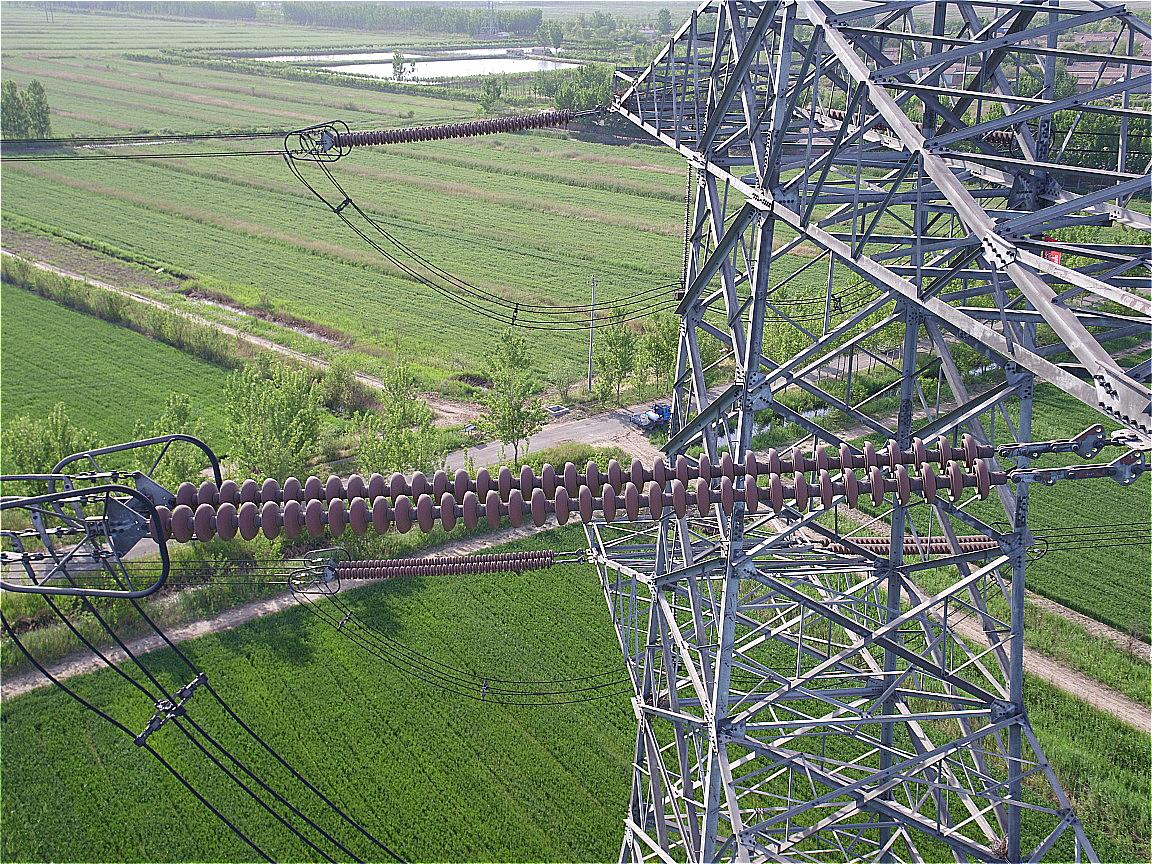insultor1: (151, 432, 988, 542)
insultor2: (334, 107, 573, 148), (335, 548, 557, 580)
